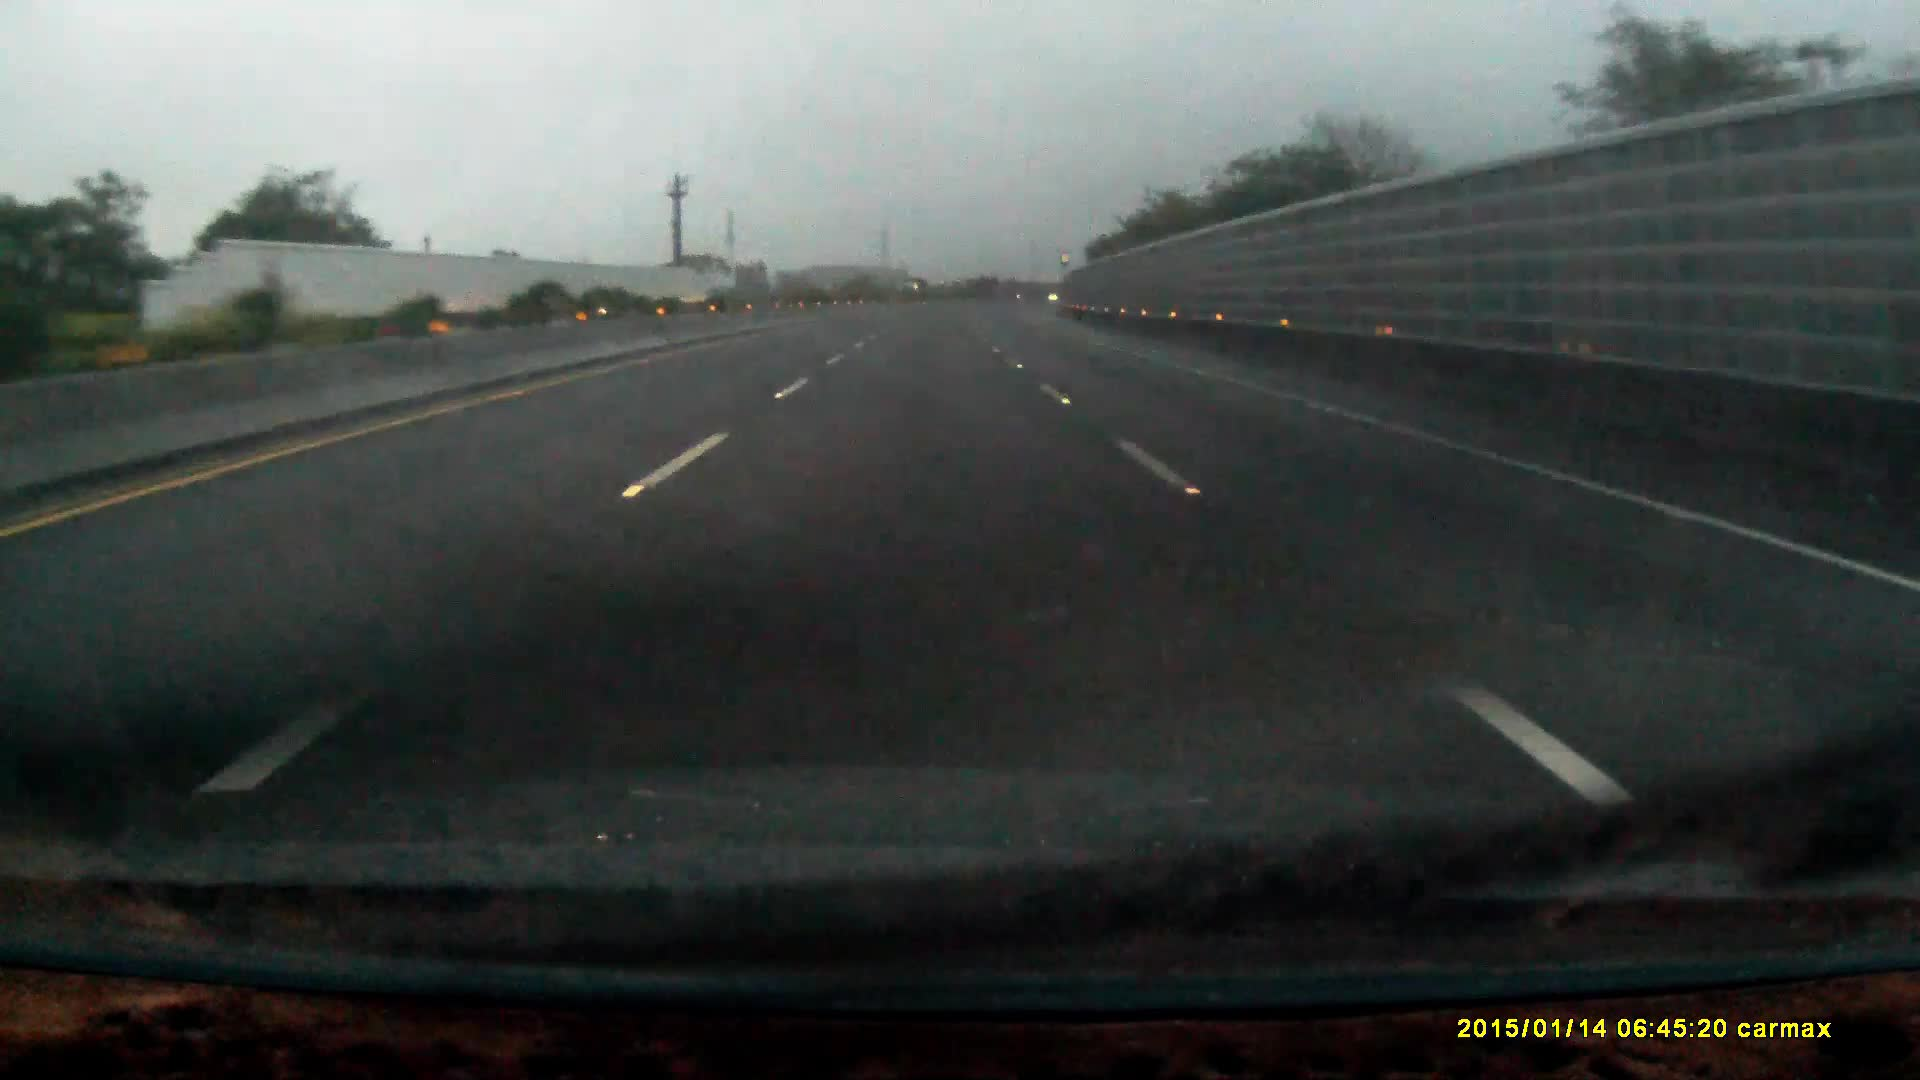vehicle: (903, 280, 927, 303)
